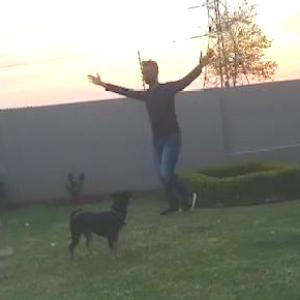takeoff: (91, 49, 217, 210)
